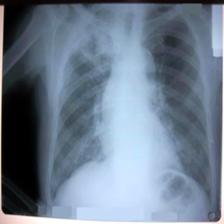tuberculosis: (46, 6, 213, 224)
